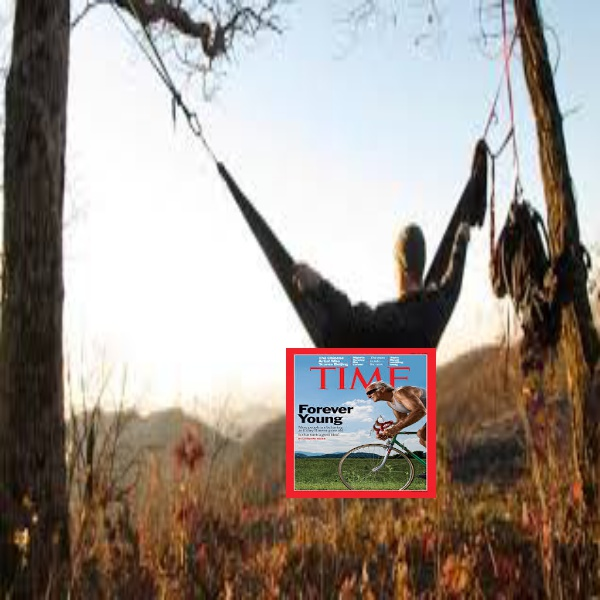time_cover: (275, 329, 448, 505)
